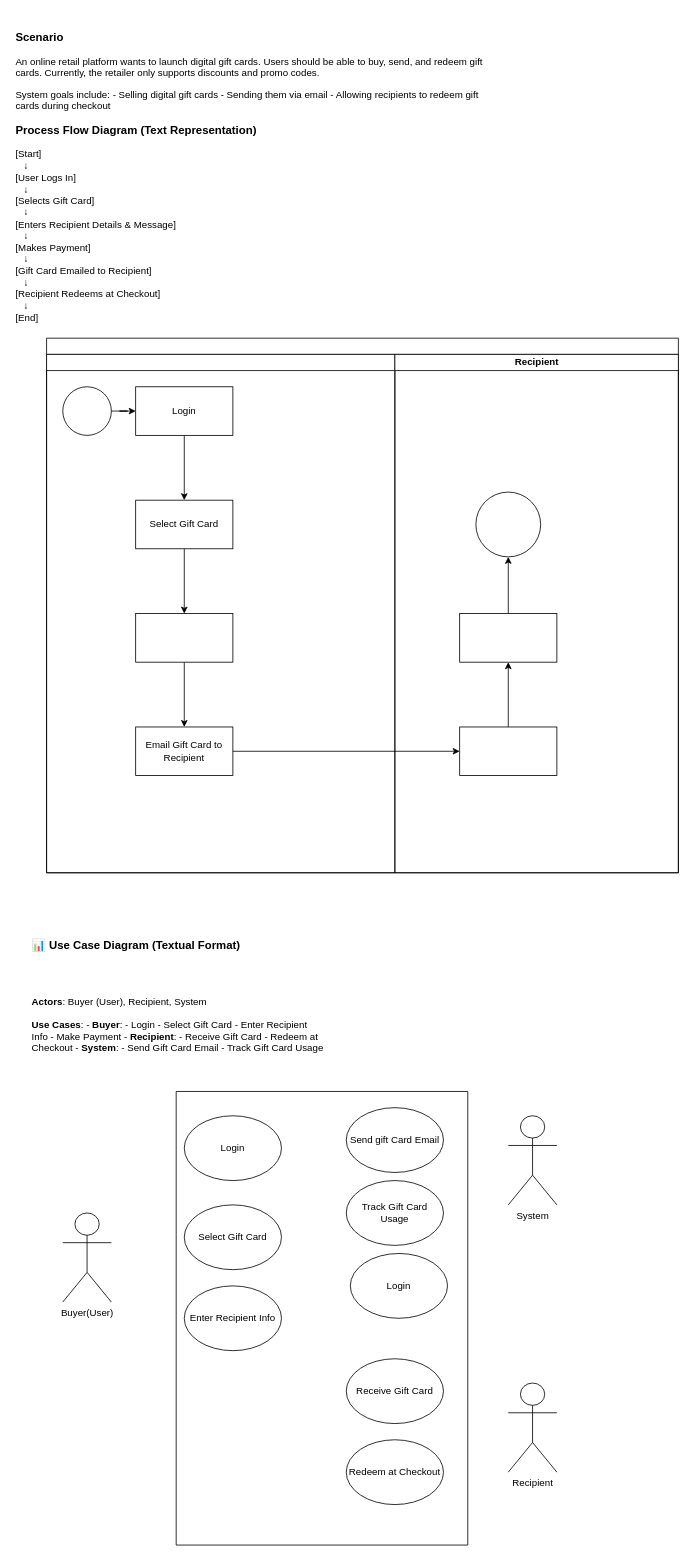
This 693x1559 diagram has some shape labels left out. Here are the shapes that lost their labels. From the top down, the box of each, then its label:
(62, 386, 111, 435): Start
(475, 491, 541, 557): End
(46, 354, 395, 873): User
(46, 337, 678, 873): Gift Card Purchase and redemption System
(135, 613, 233, 662): Enter Recipient Details and Message
(459, 613, 557, 662): Redeem Gift Card at Checkout
(459, 726, 557, 776): Receives Gift Card
